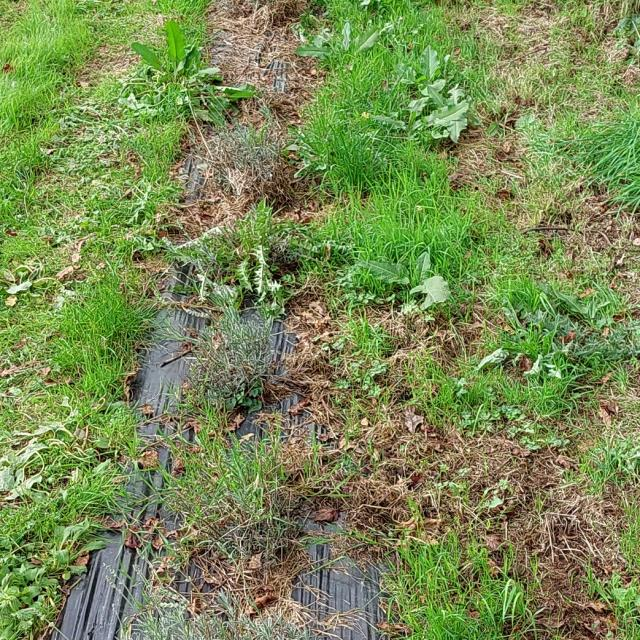organic waste: (313, 228, 475, 328), (108, 2, 242, 117), (263, 3, 395, 104), (0, 418, 115, 502), (478, 328, 568, 403), (374, 32, 456, 113), (409, 91, 491, 166), (0, 243, 79, 308)
